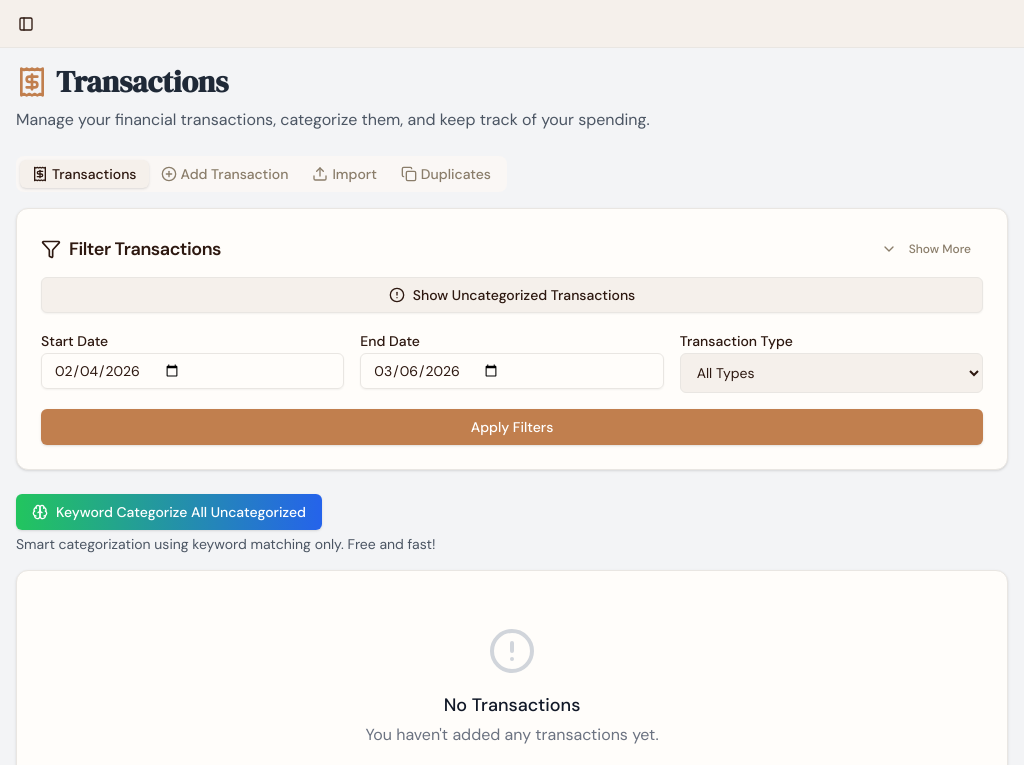
Transaction CRUD Operations › should respond to user interactions
What coordinates should you click on to do the following:
click the 1st button
I would click on:
 (26, 24)
Its box is [12,10,40,38].
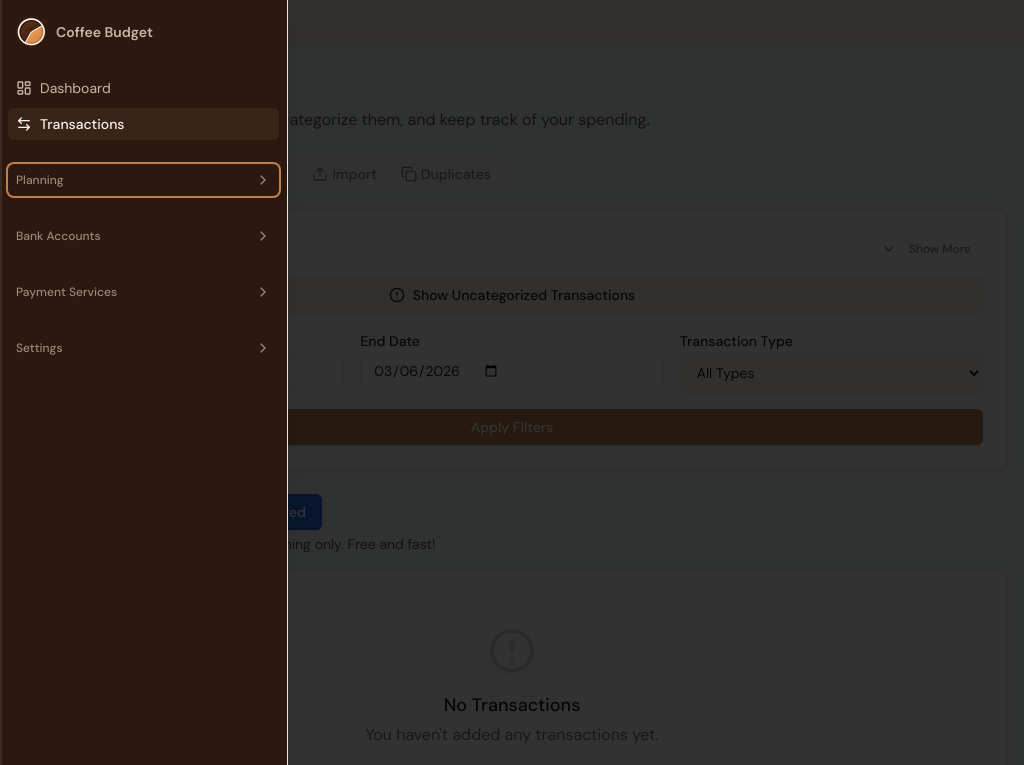
Expected: the list "Coffee Budget" is shown, [16,16,153,48]
